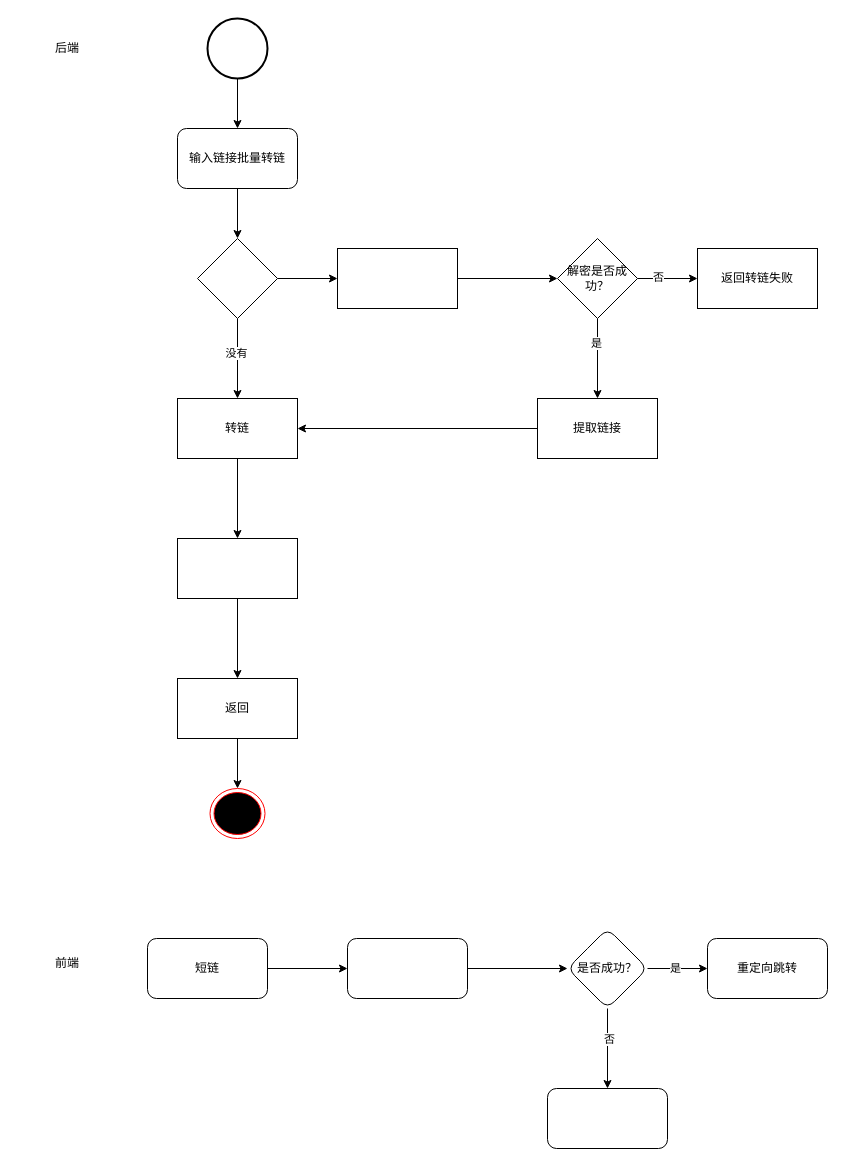
The diagram is 845 pixels wide and 1166 high, and some of its shapes have lost their labels. Here are the shapes that lost their labels. From the top down, the box of each, then its label:
(196, 238, 278, 318): 长链是否含有加密h5地址
(336, 248, 458, 308): 对称解密
(176, 538, 298, 598): 对称加密参数
(346, 938, 468, 998): 解密参数
(546, 1088, 668, 1148): 上报异常
